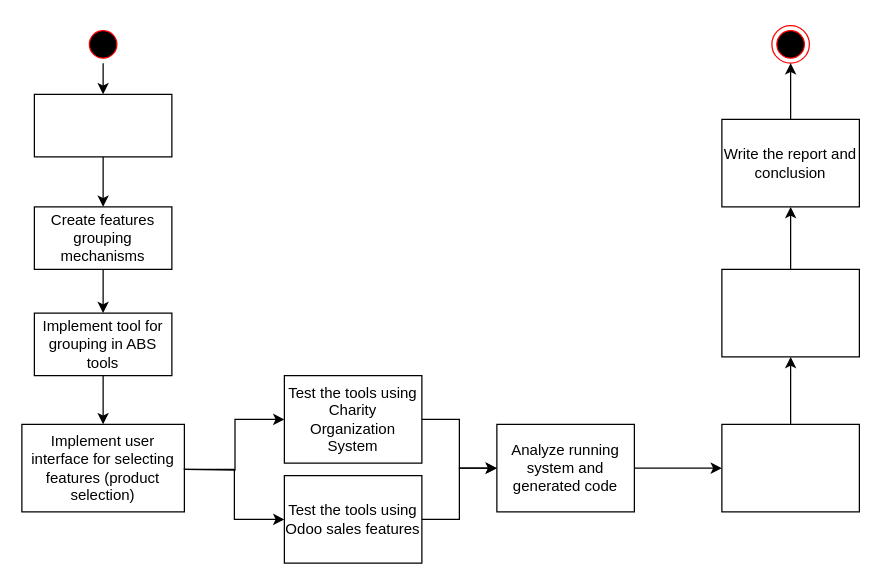
Some shapes in this 881 by 585 pixel diagram are drawn without their labels. Here are the shapes that lost their labels. From the top down, the centre of each, then its label:
At [102,125]: "LIterature review".
At [790,312]: "Do an argumentative reasoning".
At [790,467]: "Evaluate the grouping mechanisms".
